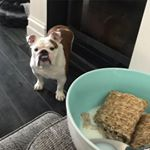puppy: (21, 21, 80, 104)
